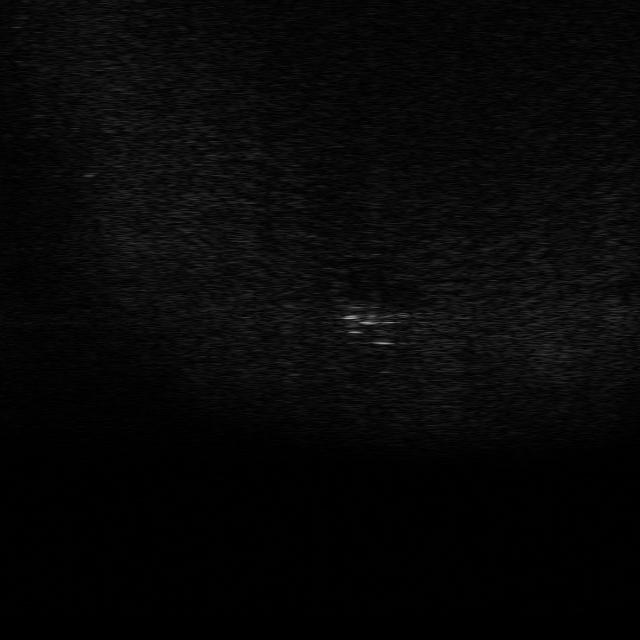plane: (336, 303, 414, 336)
